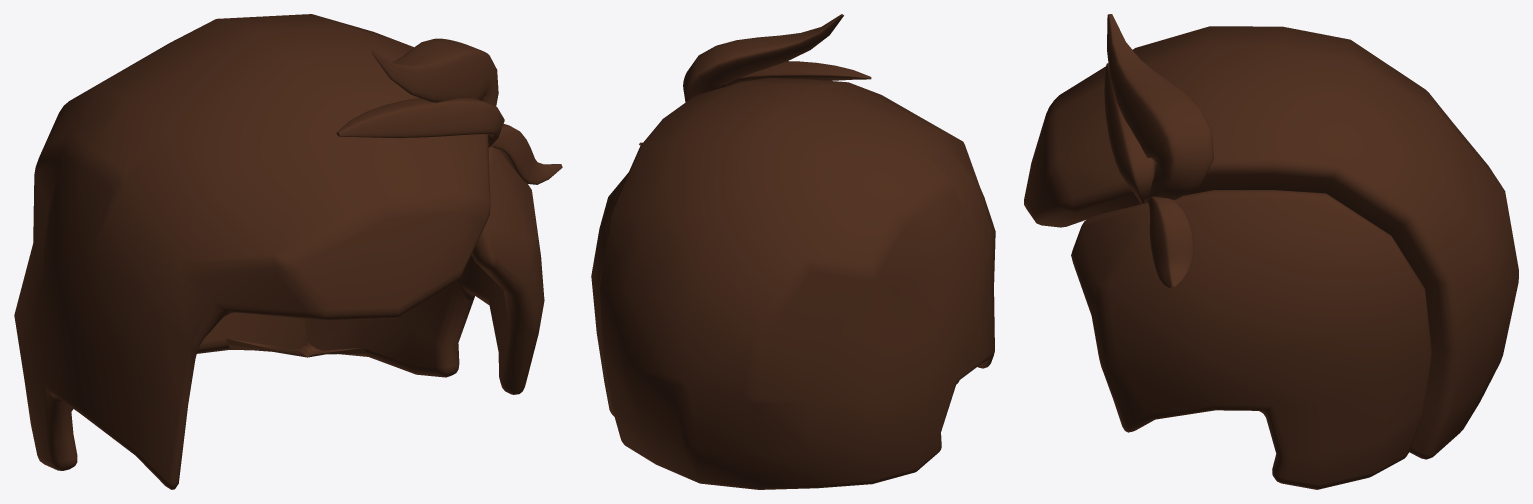
3 views of the same model, side by side, from view 1: azimuth 30°, elevation 25°; view 2: azimuth 150°, elevation 25°; view 3: azimuth 270°, elevation 25° (orthographic). The views are drawn at different scales.
Visible parts, largest first — view 1: hairShortNerdy; view 2: hairShortNerdy; view 3: hairShortNerdy.
Part boxes in pixels (<box>): hairShortNerdy: <box>14,14,562,489</box>; hairShortNerdy: <box>591,14,995,489</box>; hairShortNerdy: <box>1024,14,1518,489</box>.
Bounding box in the file's own units: 0.5224 × 0.4848 × 0.5382.
1 material, 1 textured.
